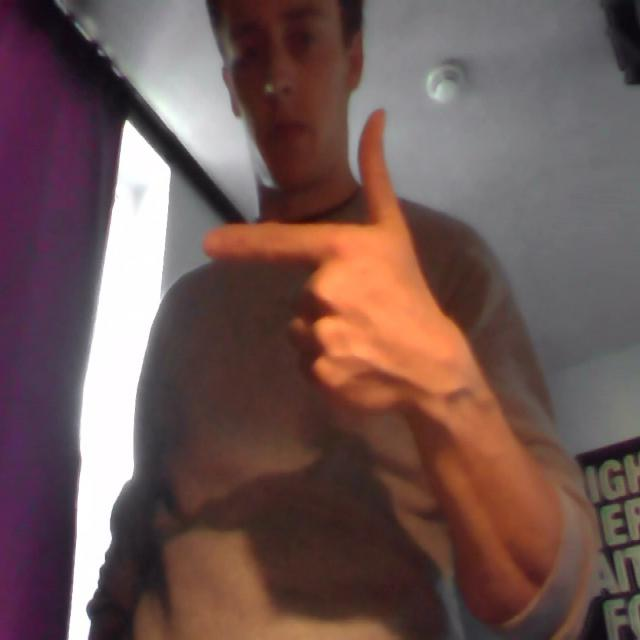left: (186, 100, 452, 428)
